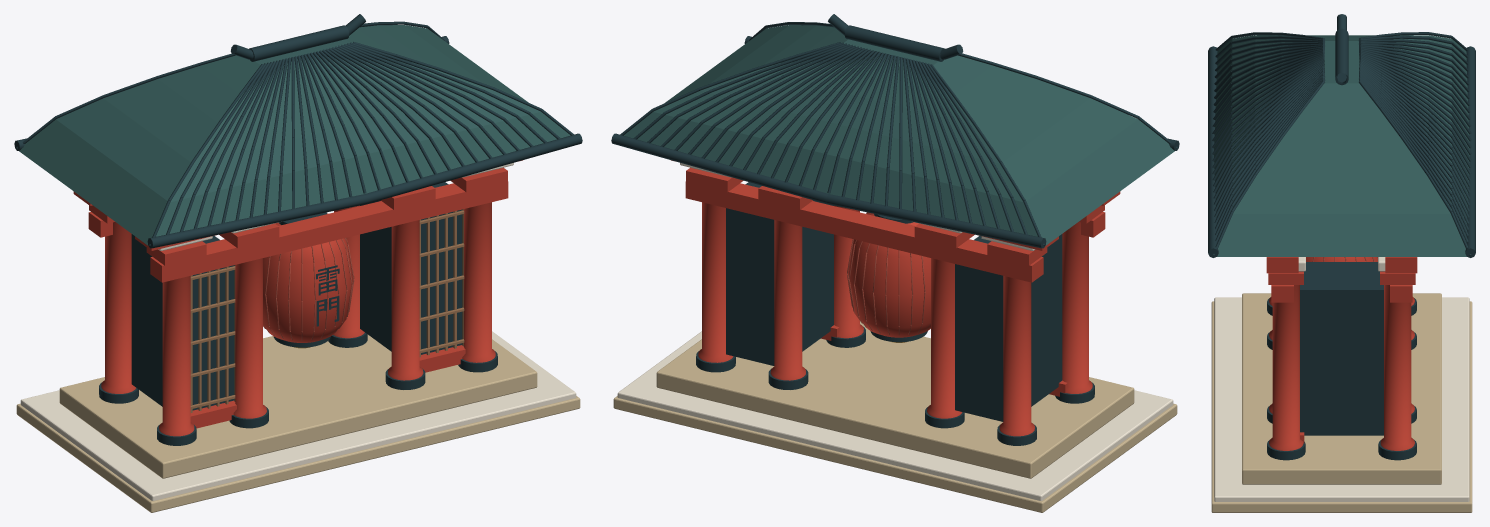
The model's file is gate.glb.
3 renders of one model, left to right at view 1: azimuth 30°, elevation 25°; view 2: azimuth 150°, elevation 25°; view 3: azimuth 270°, elevation 25°, orthographic. The views are drawn at different scales.
Parts seen in each view (by area): view 1: gate_roof, gate_ink, gate_red, gate_stone, gate_ivory, gate_bronze, gate_brick; view 2: gate_roof, gate_ink, gate_red, gate_stone, gate_ivory, gate_brick; view 3: gate_ink, gate_roof, gate_stone, gate_ivory, gate_red.
Part boxes in pixels (bbox=[...]): gate_roof: bbox=[19, 25, 570, 245]; gate_ink: bbox=[14, 14, 582, 445]; gate_red: bbox=[73, 160, 522, 436]; gate_stone: bbox=[16, 334, 580, 512]; gate_ivory: bbox=[20, 163, 576, 500]; gate_bronze: bbox=[190, 209, 464, 412]; gate_brick: bbox=[263, 238, 354, 340]; gate_roof: bbox=[624, 25, 1174, 245]; gate_ink: bbox=[611, 14, 1179, 445]; gate_red: bbox=[671, 160, 1120, 436]; gate_stone: bbox=[613, 321, 1177, 512]; gate_ivory: bbox=[617, 163, 1173, 500]; gate_brick: bbox=[847, 239, 930, 335]; gate_ink: bbox=[1208, 14, 1475, 460]; gate_roof: bbox=[1214, 35, 1469, 256]; gate_stone: bbox=[1211, 293, 1472, 512]; gate_ivory: bbox=[1214, 257, 1469, 501]; gate_red: bbox=[1266, 257, 1417, 450].
Bounding box in the file's own units: 6.73 × 5.7 × 3.75.
